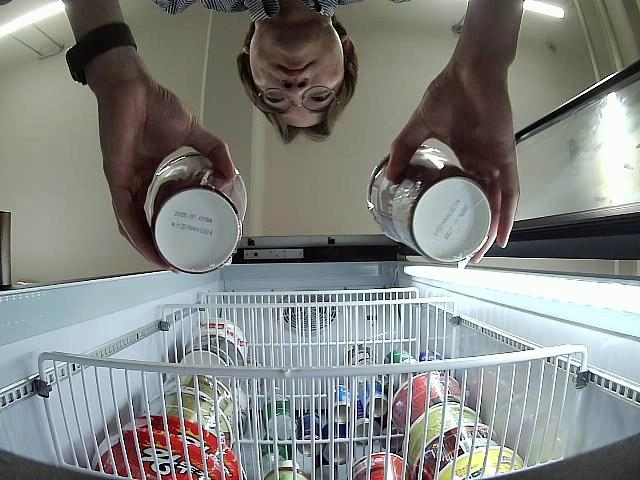00_hand: (93, 89, 240, 274), (383, 72, 520, 264)
06_nuguri_S: (367, 148, 493, 258), (148, 145, 245, 271)
